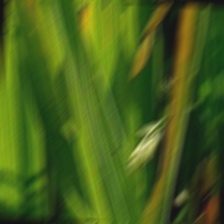Leaf_Blast: (149, 8, 191, 217)
